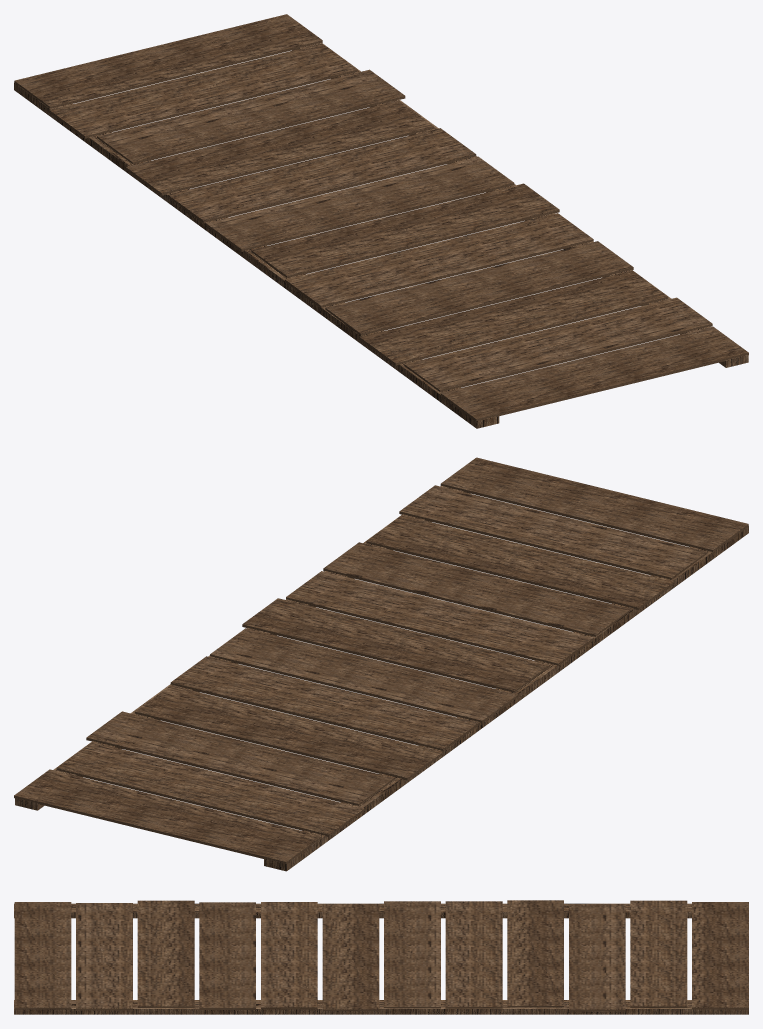
The model's file is Bridge.FBX.
3 views of the same model, one above another, from view 1: azimuth 30°, elevation 25°; view 2: azimuth 150°, elevation 25°; view 3: azimuth 270°, elevation 25° (orthographic). The views are drawn at different scales.
Visible parts, largest first — view 1: Box001, Box002, Box003; view 2: Box001, Box002, Box003; view 3: Box001, Box003, Box002.
Part boxes in pixels (left/top/right/bottom): Box001: left=14, top=14, right=748, bottom=421; Box002: left=14, top=82, right=499, bottom=428; Box003: left=292, top=42, right=748, bottom=367; Box001: left=14, top=457, right=748, bottom=863; Box002: left=264, top=526, right=748, bottom=871; Box003: left=15, top=486, right=470, bottom=810; Box001: left=14, top=900, right=748, bottom=1011; Box003: left=14, top=1000, right=748, bottom=1014; Box002: left=14, top=903, right=691, bottom=918.
Bounding box in the file's own units: 34.75 × 1.11 × 98.57.
Materials: 1 (1 with a texture image).
